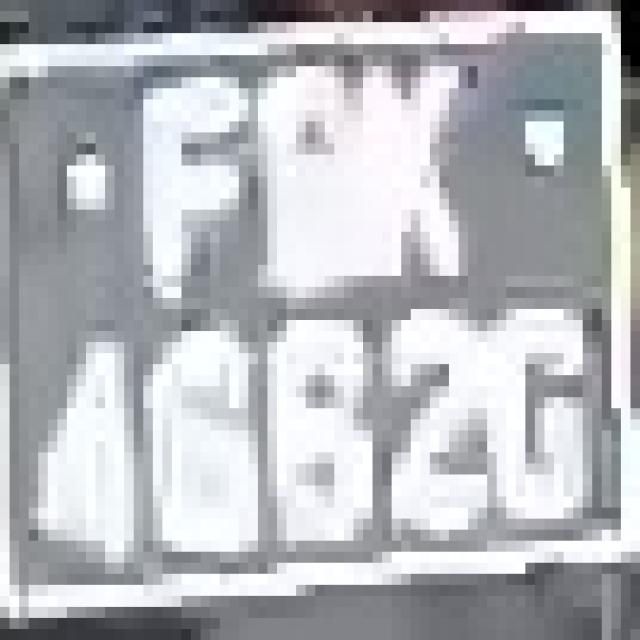2: (344, 276, 468, 563)
4: (9, 331, 162, 585)
6: (124, 287, 268, 541)
8: (239, 298, 382, 530)
B: (229, 55, 373, 342)
F: (105, 44, 248, 331)
G: (449, 276, 602, 607)
K: (344, 33, 487, 320)
